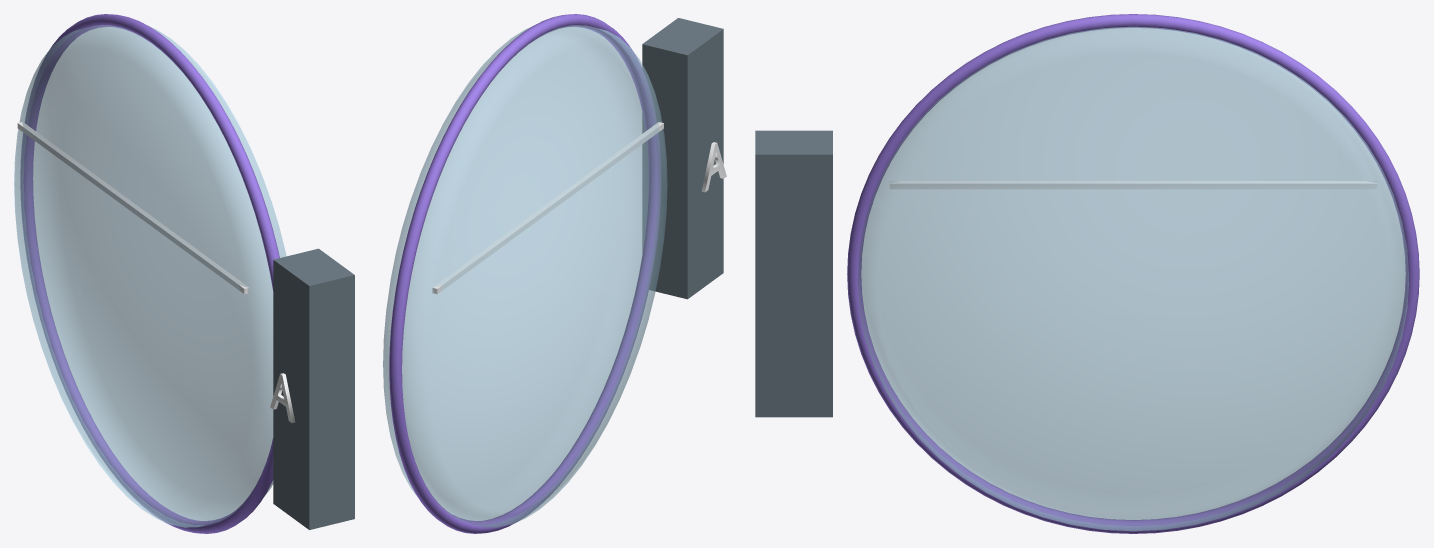
Rendered from sim-eye-a.glb.
3 renders of one model, left to right at view 1: azimuth 30°, elevation 25°; view 2: azimuth 150°, elevation 25°; view 3: azimuth 270°, elevation 25°, orthographic. The views are drawn at different scales.
Parts seen in each view (by area): view 1: optical element, insert tab, lens rim, vertical glint, eye label; view 2: optical element, insert tab, lens rim, vertical glint, eye label; view 3: optical element, lens rim, insert tab, vertical glint.
Part boxes in pixels (x1,y1,x2,y2): optical element: (14,25,286,527); insert tab: (273,248,354,529); lens rim: (20,14,279,533); vertical glint: (17,122,249,294); eye label: (270,373,295,423); optical element: (383,25,667,527); insert tab: (642,18,723,299); lens rim: (389,14,661,533); vertical glint: (432,122,663,294); eye label: (701,142,726,192); optical element: (857,27,1408,531); lens rim: (847,14,1419,533); insert tab: (755,130,832,417); vertical glint: (889,181,1377,189).
Bounding box in the file's own units: 0.52 × 1.62 × 1.88.
